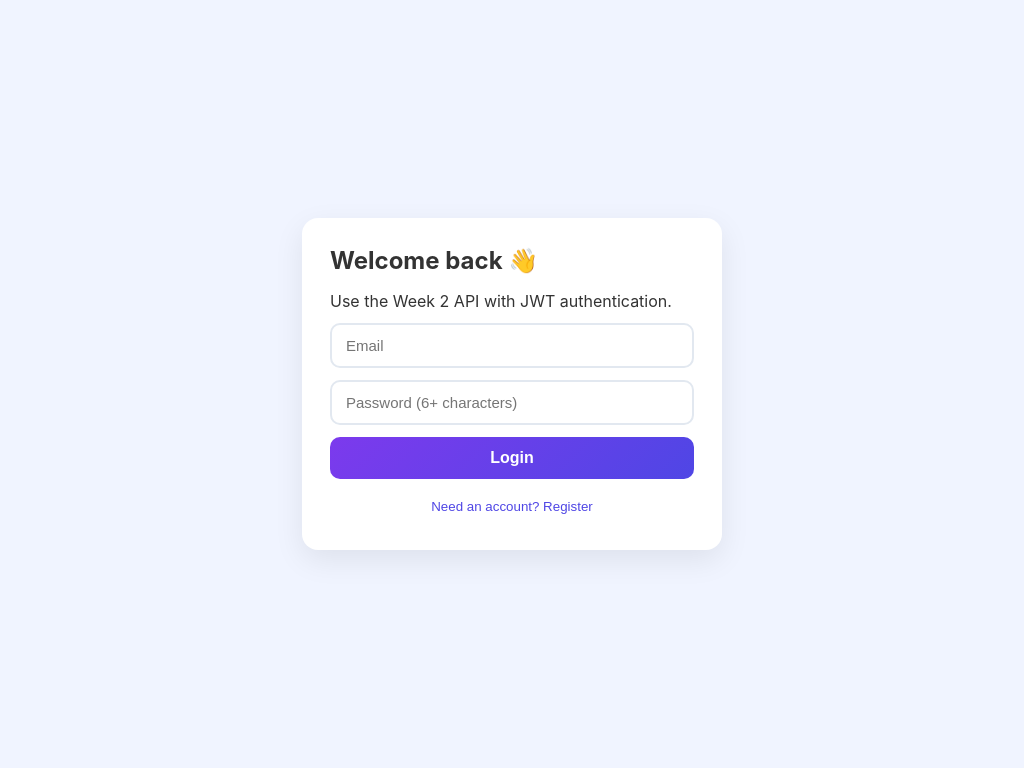
Test: Connected Todo App › logs in, stores the JWT, and loads tasks
Type "a@example.com" into the field with placeholder "Email" at (512, 346), box [330,323,694,368]
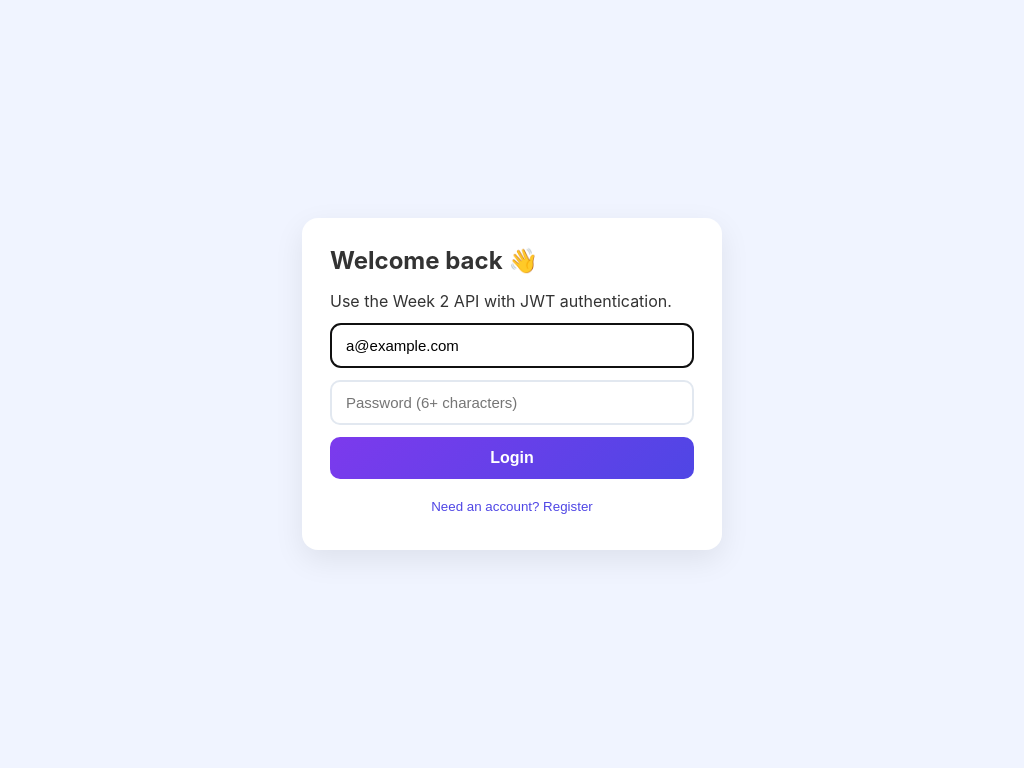
Type "secret123" into the password field with placeholder "Password (6+ characters)" at (512, 402), box [330,380,694,425]
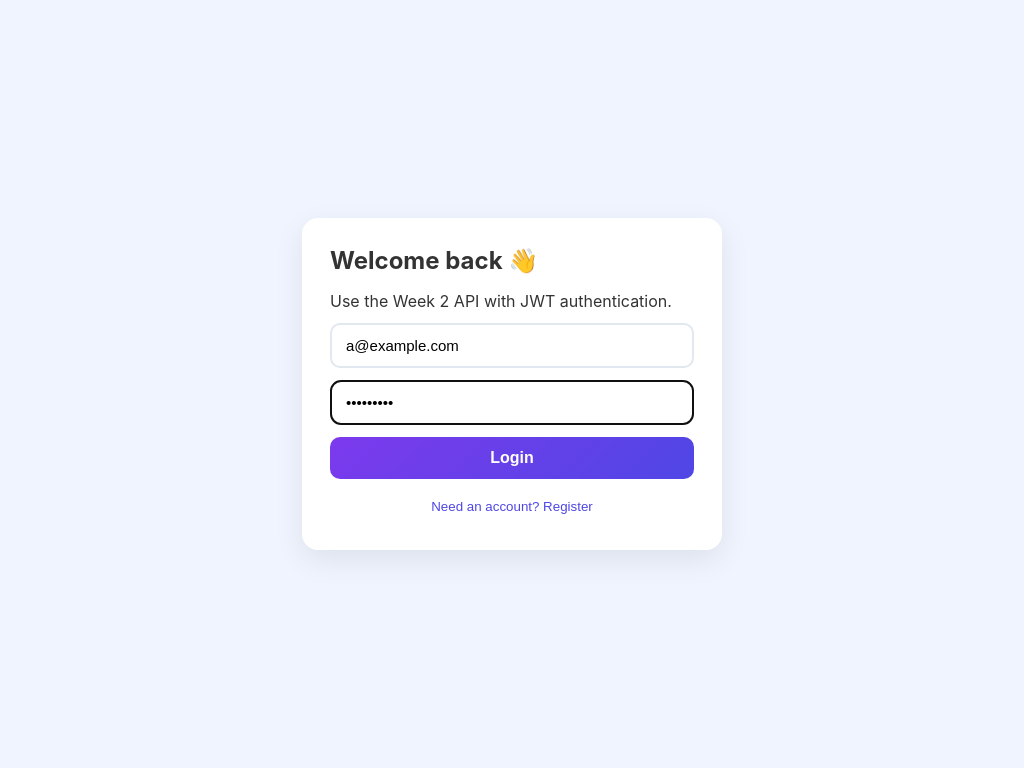
Click the button "Login" at (512, 458), box [330,437,694,479]
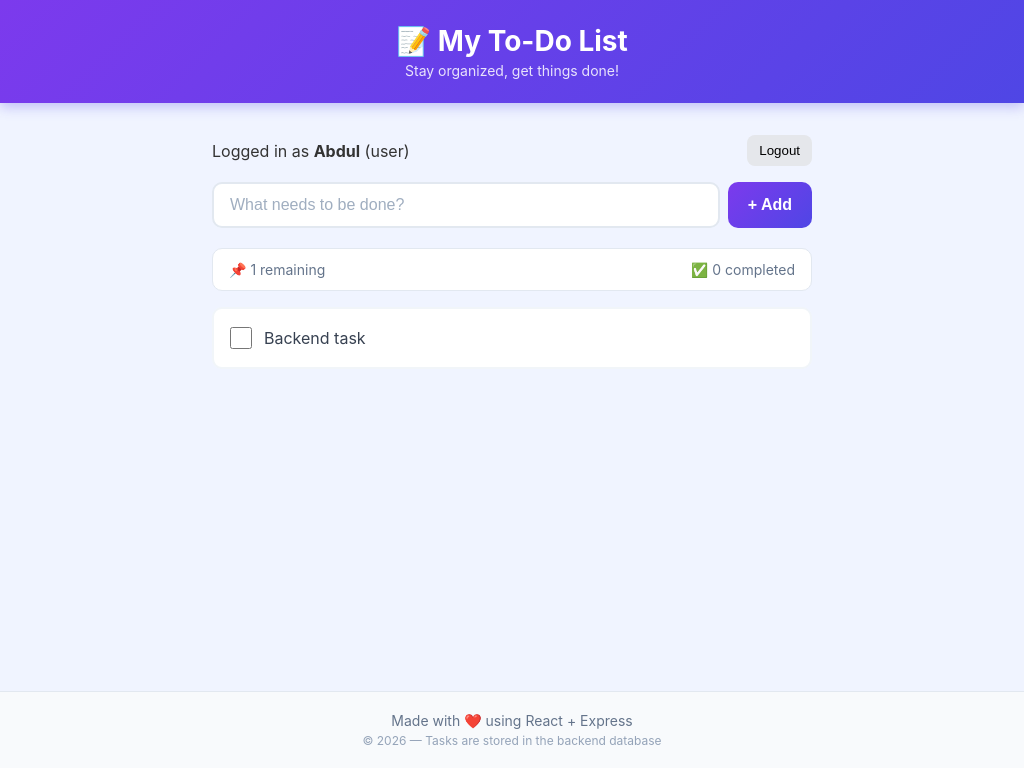
expect the text "Backend task" is shown: met, box [264,328,366,348]
